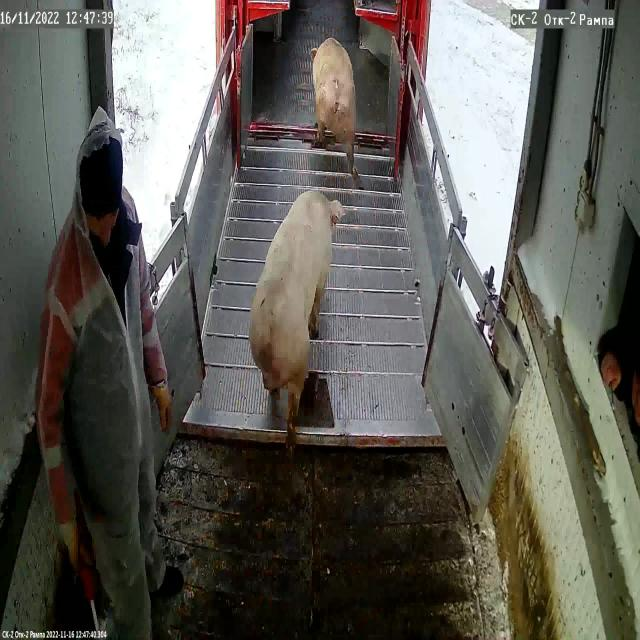pig: (248, 191, 344, 422), (312, 37, 356, 175)
